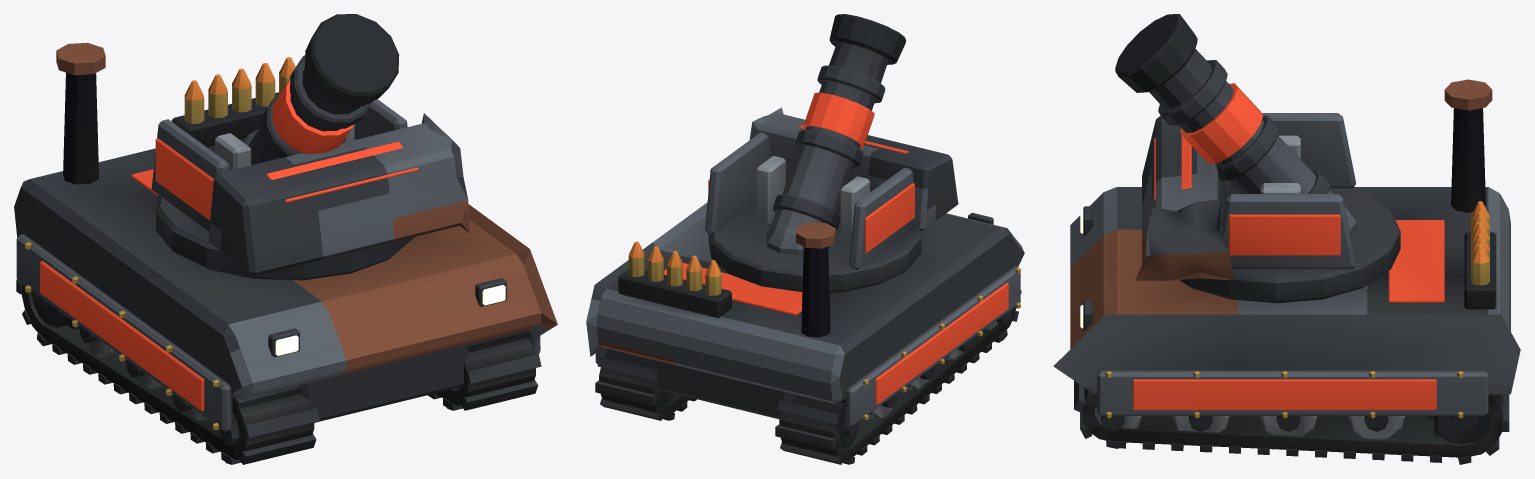
File: mortar.glb
The picture shows the model from 3 angles, left to right: view 1: azimuth 30°, elevation 25°; view 2: azimuth 150°, elevation 25°; view 3: azimuth 270°, elevation 25°; orthographic projection. The views are drawn at different scales.
Parts seen in each view (by area): view 1: geo_body, geo_barrel, geo_track_right, geo_track_left; view 2: geo_body, geo_barrel, geo_track_right, geo_track_left; view 3: geo_body, geo_track_left, geo_barrel.
Part boxes in pixels (x1,y1,x2,y2): geo_body: [14, 42, 557, 431]; geo_barrel: [243, 14, 399, 165]; geo_track_right: [16, 279, 319, 464]; geo_track_left: [428, 330, 541, 410]; geo_body: [586, 107, 1024, 426]; geo_barrel: [766, 14, 905, 254]; geo_track_right: [775, 290, 1021, 464]; geo_track_left: [595, 349, 696, 420]; geo_body: [1053, 79, 1520, 418]; geo_track_left: [1074, 380, 1509, 464]; geo_barrel: [1115, 14, 1356, 235].
Size of the model in its own units: 4.42 by 5.24 by 5.85.
